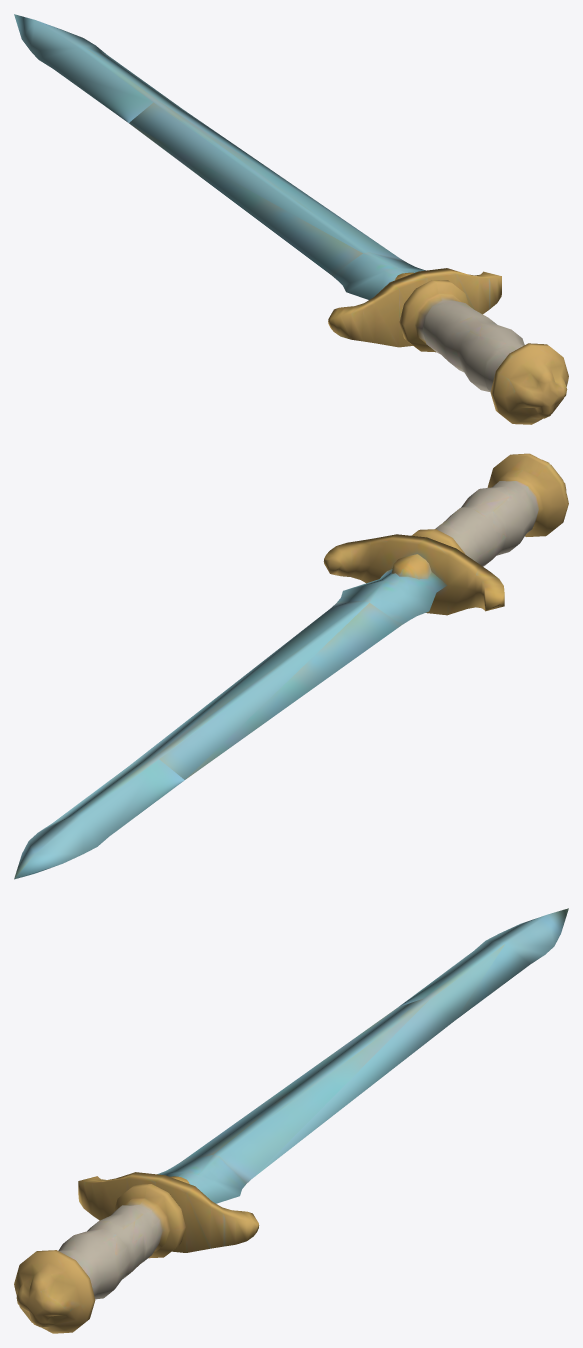
File: f_arming_sword.fbx
The picture shows the model from 3 angles, top to bottom: view 1: azimuth 30°, elevation 25°; view 2: azimuth 150°, elevation 25°; view 3: azimuth 330°, elevation 25°; orthographic projection. The views are drawn at different scales.
Parts seen in each view (by area): view 1: tripo_node_176dabd4-14b2-442e-98e7-46986e44ca97; view 2: tripo_node_176dabd4-14b2-442e-98e7-46986e44ca97; view 3: tripo_node_176dabd4-14b2-442e-98e7-46986e44ca97.
Part boxes in pixels (left/top/right/bottom): tripo_node_176dabd4-14b2-442e-98e7-46986e44ca97: left=14, top=14, right=568, bottom=424; tripo_node_176dabd4-14b2-442e-98e7-46986e44ca97: left=14, top=453, right=568, bottom=879; tripo_node_176dabd4-14b2-442e-98e7-46986e44ca97: left=14, top=908, right=568, bottom=1333.
Size of the model in its own units: 0.2377 by 0.1043 by 1.26.
1 material, 1 textured.
